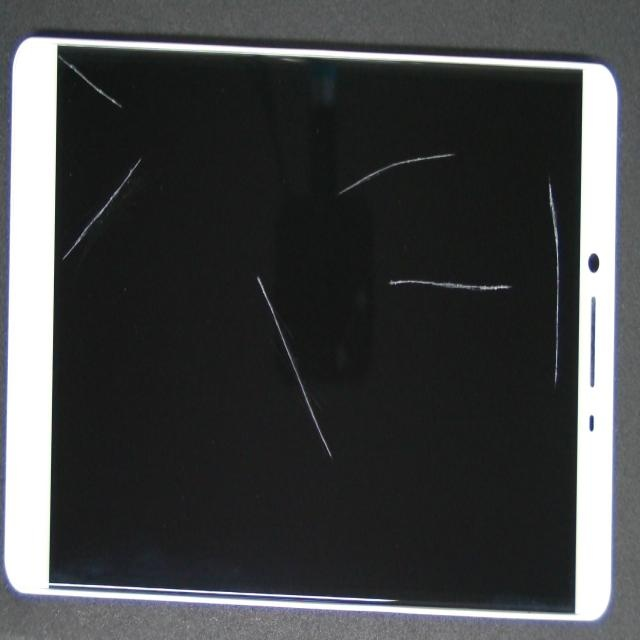scratch: (263, 0, 640, 398)
